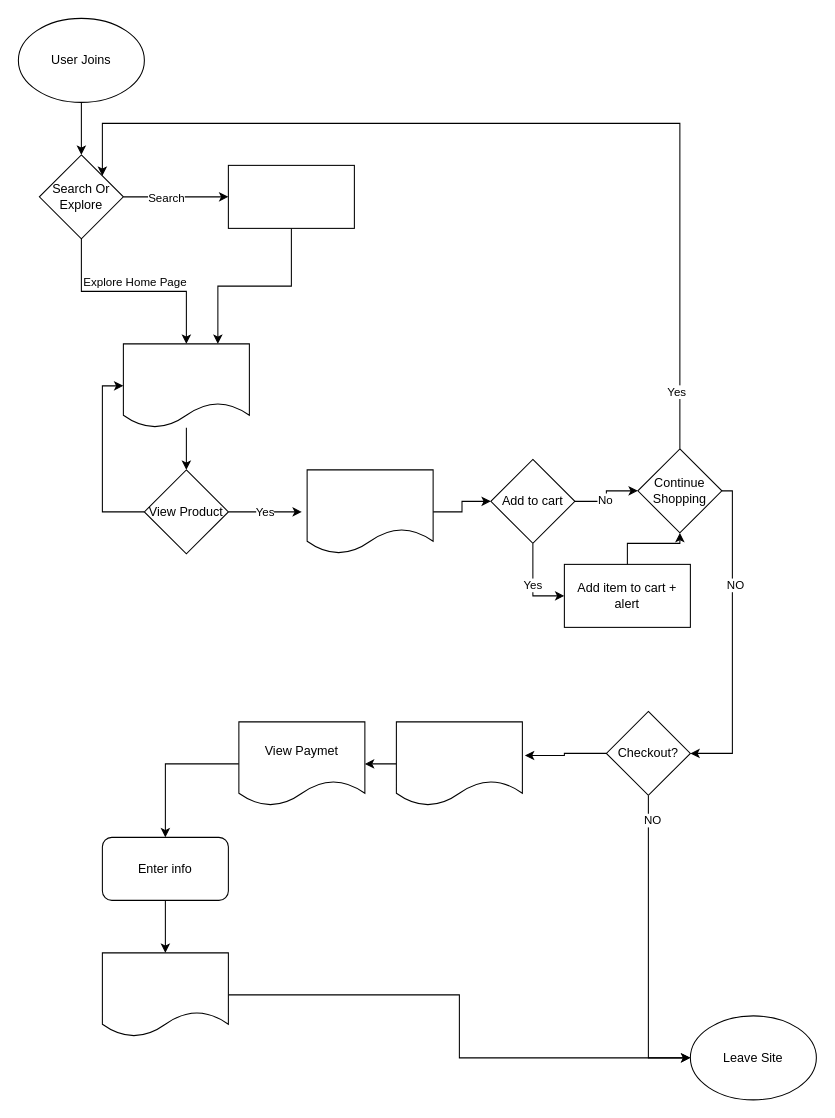
Image size: 835x1118. Some labels were removed from this diagram. Each missing label, with the box of its shape:
Conformation: (101, 952, 228, 1037)
Enter Input: (227, 164, 354, 228)
Product Page: (306, 469, 433, 554)
View Cart: (395, 721, 522, 806)
View Products: (122, 343, 249, 428)
